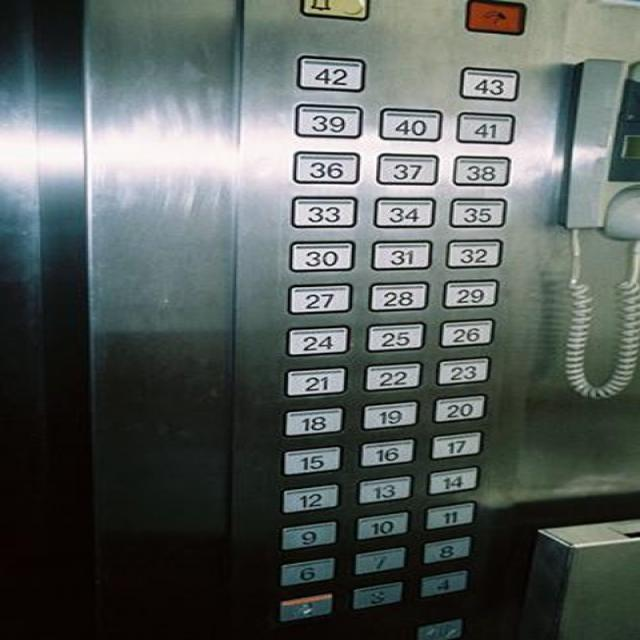10: (352, 510, 407, 540)
11: (422, 498, 474, 530)
12: (277, 482, 339, 514)
13: (352, 473, 413, 505)
14: (422, 464, 478, 496)
15: (279, 444, 341, 476)
16: (353, 437, 415, 468)
17: (425, 429, 480, 460)
18: (279, 406, 341, 437)
19: (356, 399, 419, 430)
2: (277, 593, 331, 620)
20: (430, 392, 486, 424)
21: (281, 364, 347, 398)
22: (360, 359, 421, 392)
23: (431, 354, 492, 386)
24: (283, 323, 348, 358)
25: (363, 321, 424, 352)
26: (434, 317, 494, 348)
27: (285, 282, 351, 316)
28: (364, 279, 429, 313)
29: (439, 277, 497, 309)
3: (349, 580, 403, 608)
30: (287, 238, 353, 272)
31: (368, 238, 432, 272)
32: (440, 237, 503, 270)
33: (288, 194, 357, 229)
34: (369, 195, 435, 229)
35: (446, 196, 506, 229)
36: (288, 148, 360, 185)
37: (373, 151, 439, 186)
38: (450, 154, 510, 188)
39: (289, 101, 362, 140)
4: (416, 570, 467, 596)
40: (373, 105, 444, 143)
41: (452, 109, 515, 145)
42: (292, 51, 367, 93)
43: (452, 63, 521, 102)
6: (276, 556, 333, 585)
7: (351, 546, 405, 574)
8: (417, 536, 472, 563)
9: (276, 518, 337, 550)
call: (458, 0, 530, 38)
open: (414, 618, 462, 639)
